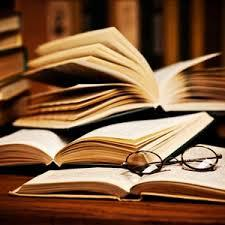Paper: (3, 3, 225, 225)
